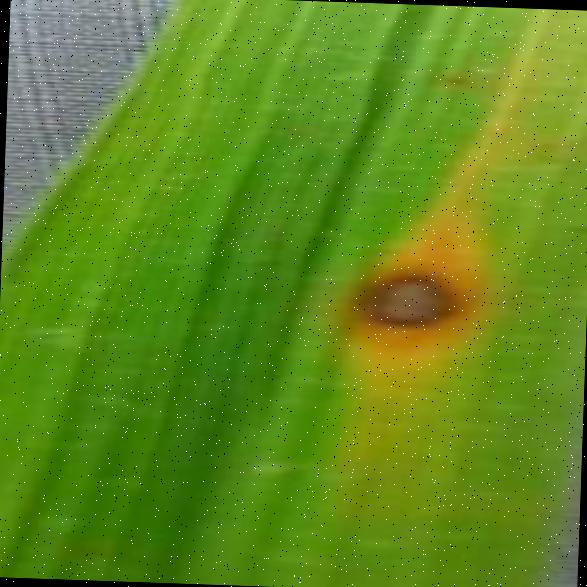Brown_Spot: (316, 216, 500, 385), (419, 55, 484, 100)
